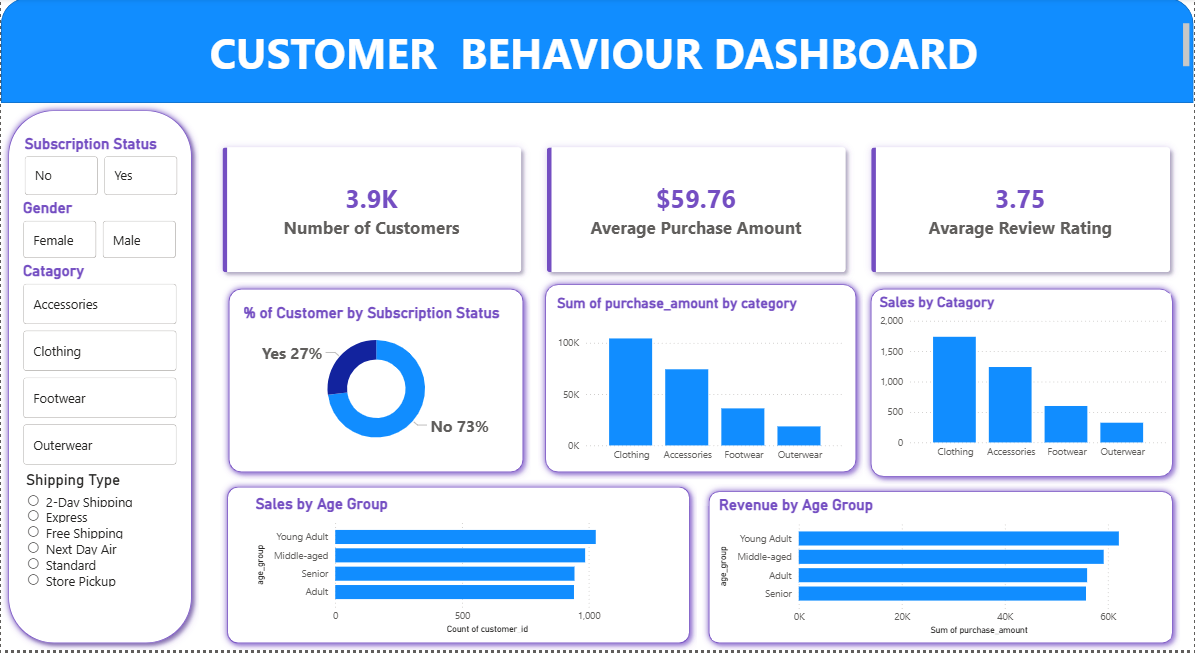

Layout of this report page (visuals, bound fields, positions):
{"tool":"powerbi","page":{"name":"Page 1","canvas":[1500,820],"ordinal":0},"visuals":[{"type":"cardVisual","fields":{"Data":["customer_behavior customer.Number of Customers","customer_behavior customer.Average Purchase Amount","customer_behavior customer.Avarage Review Rating"]},"box":[249,158.5,1250.8,215.1],"z":0},{"type":"shape","box":[0,0,1499.8,132.1],"z":1000},{"type":"textbox","box":[0,26.4,1499.8,71.7],"z":2000},{"type":"shape","box":[277.3,356.6,388.6,249],"z":3000},{"type":"donutChart","title":"% of Customer by Subscription Status","fields":{"Category":["customer_behavior customer.subscription_status"],"Y":["CountNonNull(customer_behavior customer.customer_id)"]},"box":[300,384.9,343.4,190.5],"z":4000},{"type":"shape","box":[675.4,350.9,409.4,254.7],"z":5000},{"type":"shape","box":[1084.8,356.6,398.1,254.7],"z":6000},{"type":"clusteredColumnChart","fields":{"Y":["Sum(customer_behavior customer.purchase_amount)"],"Category":["customer_behavior customer.category"]},"box":[694.2,373.5,371.7,218.8],"z":7000},{"type":"clusteredColumnChart","title":"Sales by Catagory","fields":{"Y":["CountNonNull(customer_behavior customer.customer_id)"],"Category":["customer_behavior customer.category"]},"box":[1099.9,371.7,371.7,217],"z":8000},{"type":"shape","box":[0,132.1,249,688.6],"z":9000},{"type":"advancedSlicerVisual","title":"Subscription Status","fields":{"Values":["customer_behavior customer.subscription_status"]},"box":[24.5,171.7,203.7,81.1],"z":10000},{"type":"advancedSlicerVisual","title":"Gender","fields":{"Values":["customer_behavior customer.gender"]},"box":[22.6,252.8,203.7,79.2],"z":11000},{"type":"advancedSlicerVisual","title":"Catagory","fields":{"Values":["customer_behavior customer.category"]},"box":[22.6,332,203.7,260.3],"z":12000},{"type":"listSlicer","title":"Shipping Type","fields":{"Values":["customer_behavior customer.shipping_type"]},"box":[26.4,594.3,200,194.3],"z":13000},{"type":"clusteredBarChart","title":"Revenue by Age Group","fields":{"Y":["Sum(customer_behavior customer.purchase_amount)"],"Category":["customer_behavior customer.age_group"]},"box":[315.1,630.1,507.5,179.2],"z":14000},{"type":"shape","box":[275.4,605.6,599.9,215.1],"z":15000},{"type":"shape","box":[881,611.2,601.8,209.4],"z":16000},{"type":"clusteredBarChart","title":"Sales by Age Group","fields":{"Y":["CountNonNull(customer_behavior customer.customer_id)"],"Category":["customer_behavior customer.age_group"]},"box":[315.1,624.4,507.5,179.2],"z":17000},{"type":"clusteredBarChart","title":"Revenue by Age Group","fields":{"Y":["Sum(customer_behavior customer.purchase_amount)"],"Category":["customer_behavior customer.age_group"]},"box":[898,626.3,573.5,179.2],"z":18000}]}

Visuals, with their boxes in screenshot pixels (x1, y1, x2, y2), scaled from the page's 1500x820 canvas onto the 1195x653 screenshot:
cardVisual - customer_behavior customer.Number of Customers x customer_behavior customer.Average Purchase Amount: Rect(198, 126, 1194, 298)
shape: Rect(0, 0, 1194, 105)
textbox: Rect(0, 21, 1194, 78)
shape: Rect(221, 284, 531, 482)
"% of Customer by Subscription Status" donutChart: Rect(239, 307, 513, 458)
shape: Rect(538, 279, 864, 482)
shape: Rect(864, 284, 1181, 487)
clusteredColumnChart - Sum(customer_behavior customer.purchase_amount) x customer_behavior customer.category: Rect(553, 297, 849, 472)
"Sales by Catagory" clusteredColumnChart: Rect(876, 296, 1172, 469)
shape: Rect(0, 105, 198, 652)
"Subscription Status" advancedSlicerVisual: Rect(20, 137, 182, 201)
"Gender" advancedSlicerVisual: Rect(18, 201, 180, 264)
"Catagory" advancedSlicerVisual: Rect(18, 264, 180, 472)
"Shipping Type" listSlicer: Rect(21, 473, 180, 628)
"Revenue by Age Group" clusteredBarChart: Rect(251, 502, 655, 644)
shape: Rect(219, 482, 697, 652)
shape: Rect(702, 487, 1181, 652)
"Sales by Age Group" clusteredBarChart: Rect(251, 497, 655, 640)
"Revenue by Age Group" clusteredBarChart: Rect(715, 499, 1172, 641)
